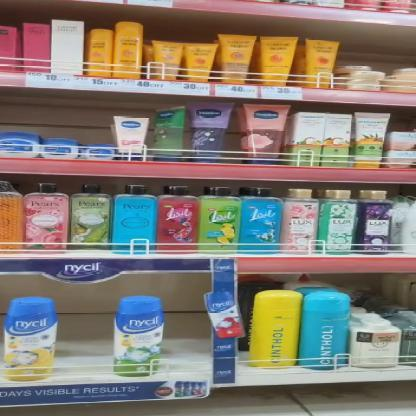Nycil Prickly Heat Powder: (112, 298, 164, 380), (6, 298, 56, 378)
